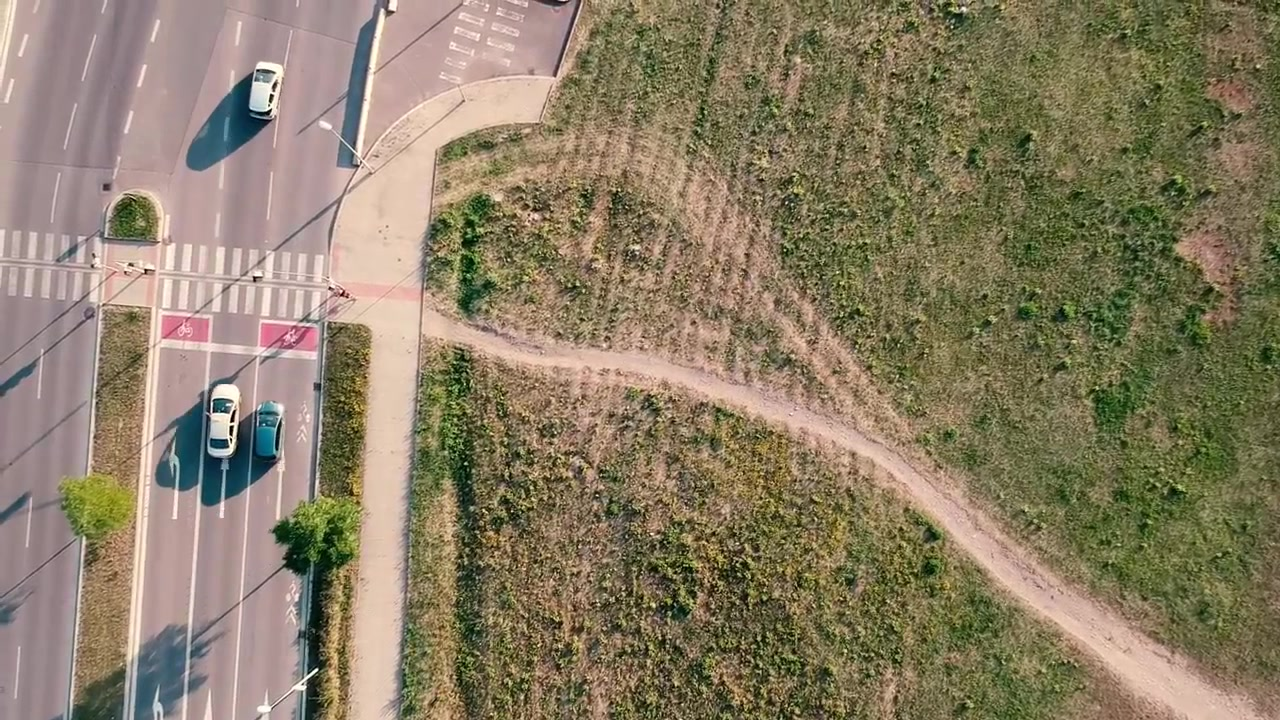car: (205, 382, 242, 459), (245, 60, 286, 122), (251, 399, 286, 464)
